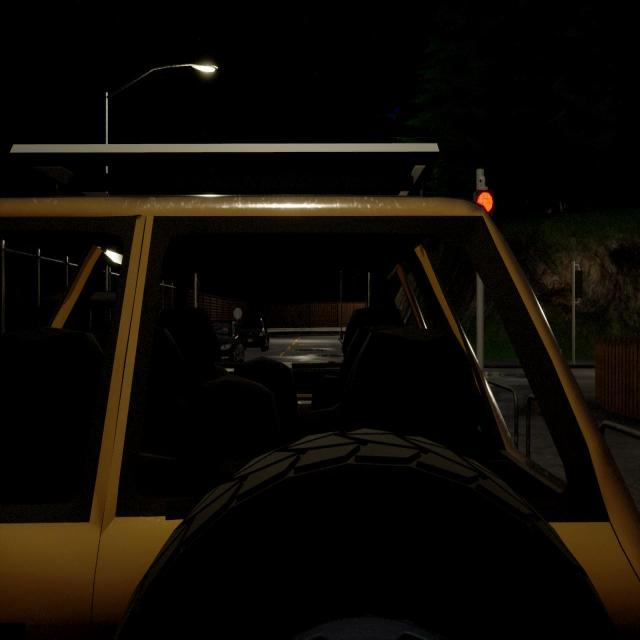Traffic_Signs: (234, 308, 242, 320)
Vehicle: (1, 138, 640, 640), (237, 315, 269, 352), (213, 329, 244, 362)
traffic_light: (474, 188, 494, 217), (575, 270, 583, 299)
